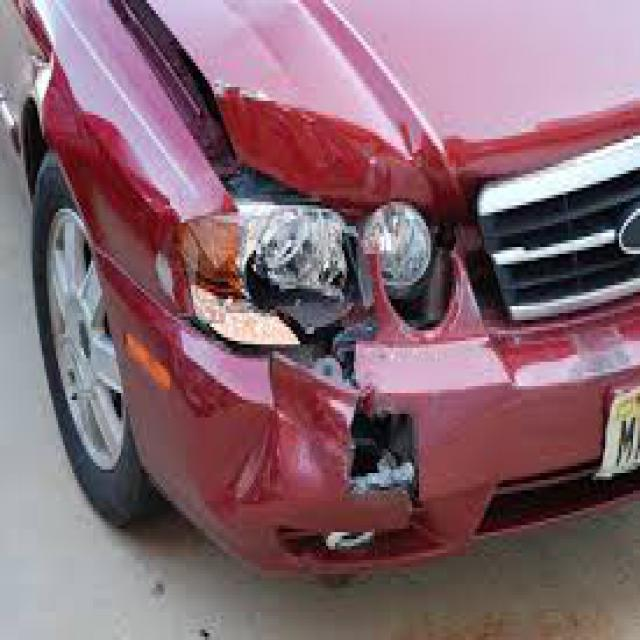Headlight-Damage: (137, 170, 396, 338)
fender-dent: (0, 0, 168, 359)
front-bumper-dent: (111, 299, 498, 584)
